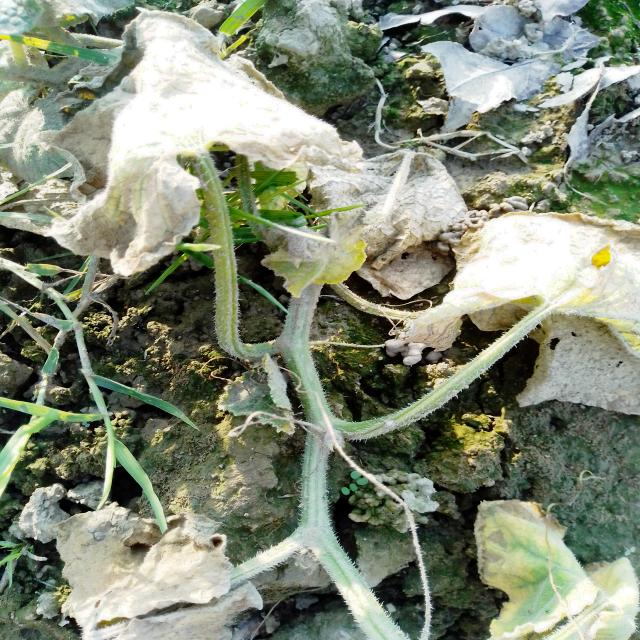Bacterial-Wilt: (31, 9, 368, 283), (406, 213, 640, 415), (53, 503, 268, 640), (308, 144, 469, 301)
